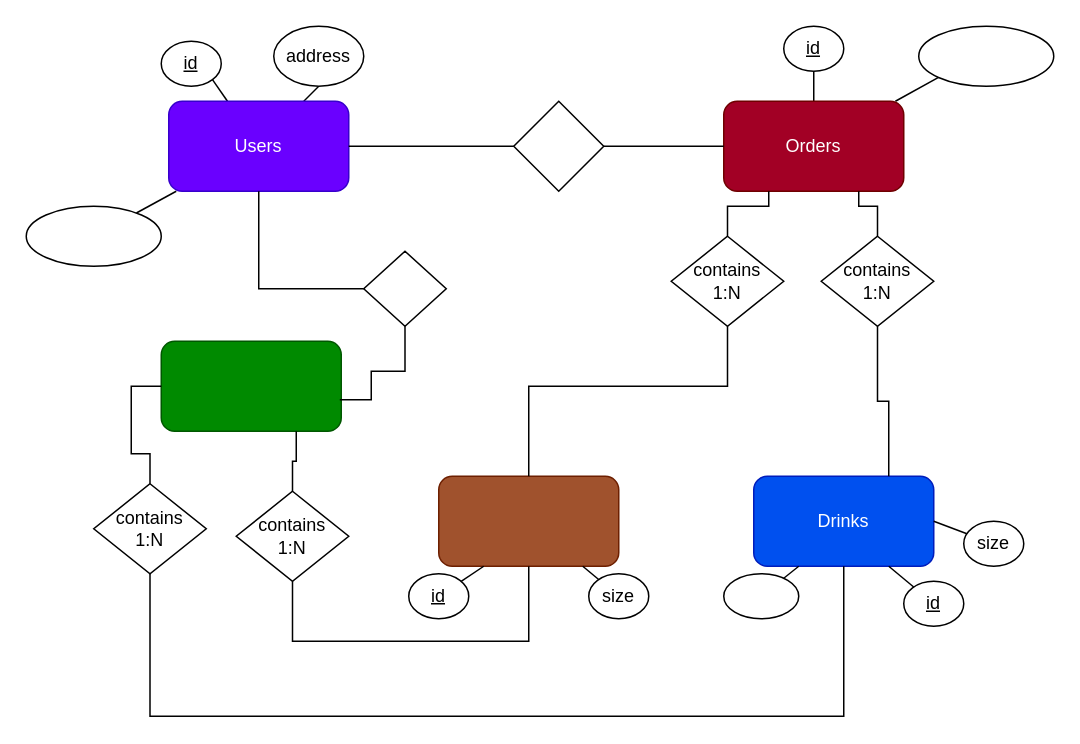
This 1080x744 diagram has some shape labels left out. Here are the shapes that lost their labels. From the top down, the centre of each, then its label:
At point 985,55: "special_orders".
At point 558,145: "makes 1:N".
At point 93,235: "phone_number".
At point 404,288: "uses N:N".
At point 250,385: "Menus".
At point 528,520: "Foods".
At point 760,595: "texture".
